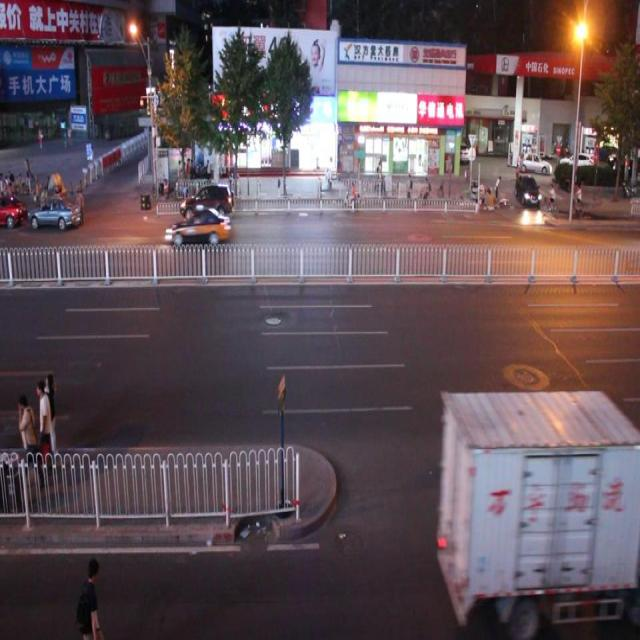bus: (443, 390, 640, 640)
car: (164, 206, 230, 247), (181, 178, 234, 226), (27, 193, 82, 231)
